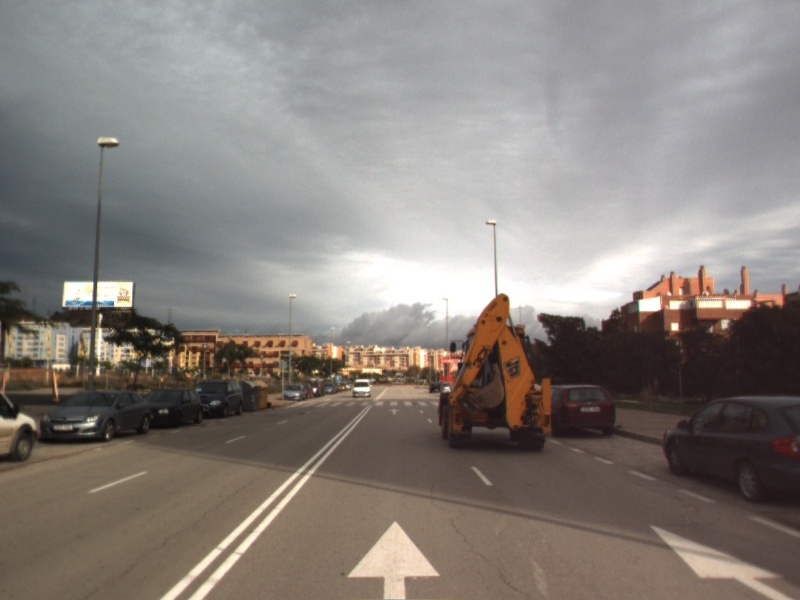STRAIGHT: (644, 520, 800, 600), (343, 516, 443, 600), (386, 406, 402, 416)
